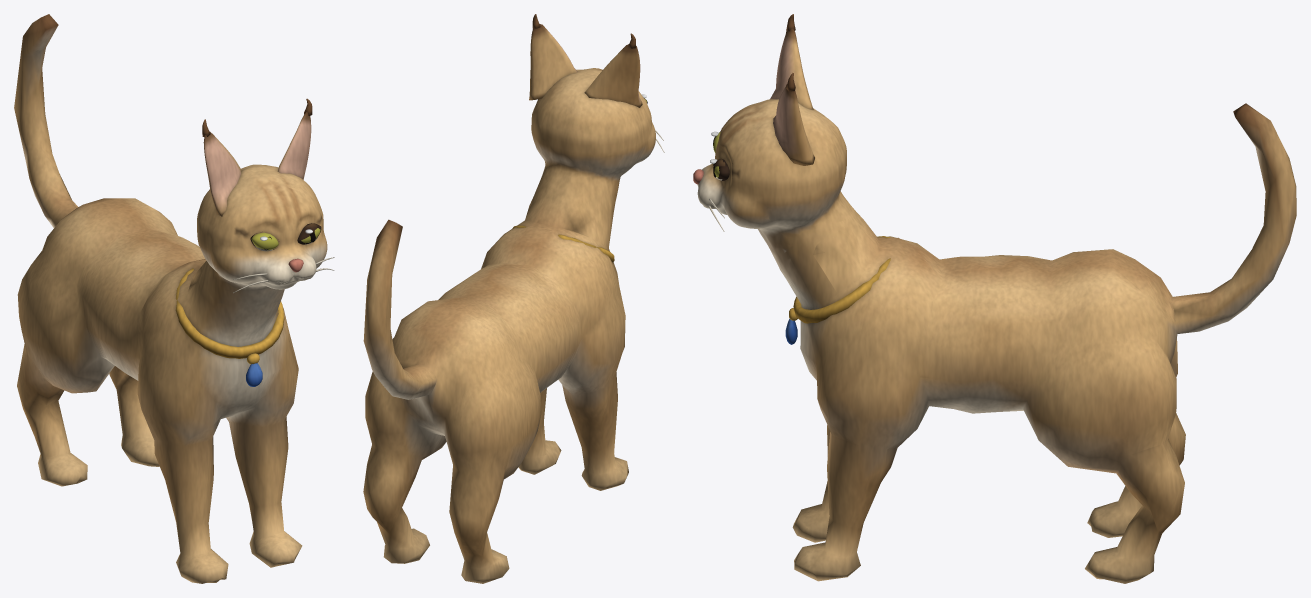
File: dunecat.fbx
3 renders of one model, left to right at view 1: azimuth 30°, elevation 25°; view 2: azimuth 150°, elevation 25°; view 3: azimuth 270°, elevation 25°, orthographic. The views are drawn at different scales.
Visible parts, largest first — view 1: DuneCat_Body, DuneCat_Eyes; view 2: DuneCat_Body; view 3: DuneCat_Body.
Part boxes in pixels (x1,y1,x2,y2): DuneCat_Body: [14, 14, 334, 583]; DuneCat_Eyes: [251, 228, 320, 250]; DuneCat_Body: [363, 14, 664, 583]; DuneCat_Body: [693, 14, 1296, 583].
Bounding box in the file's own units: 0.8829 × 2.6 × 2.74.
Materials: 2 (1 with a texture image).
